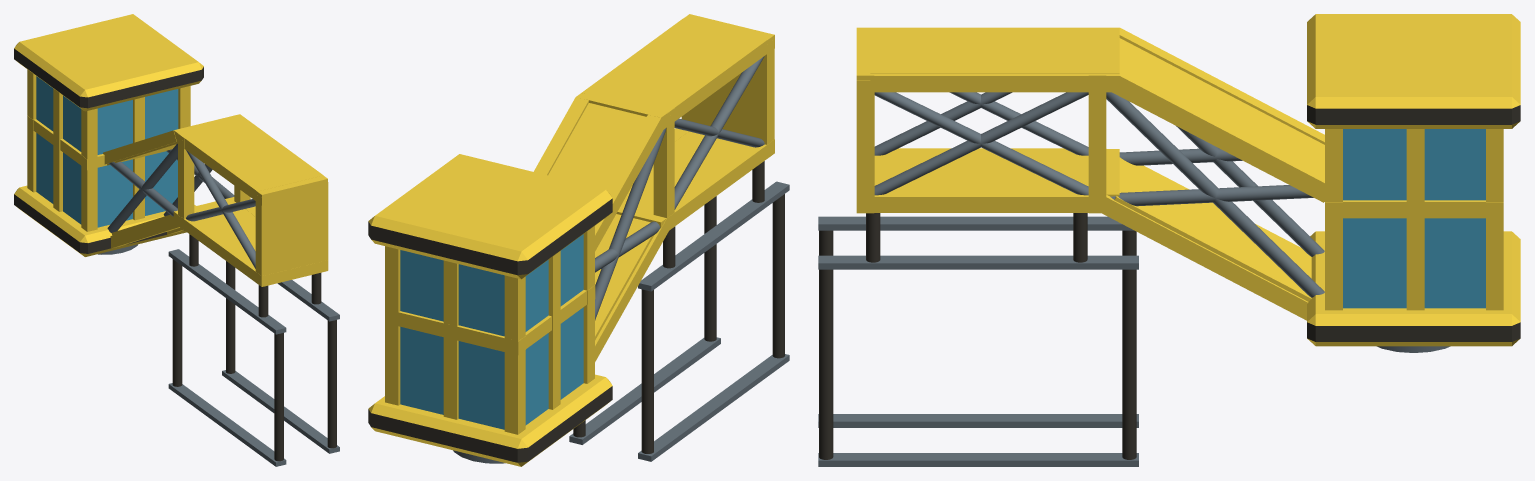
The model's file is Crain_Top.fbx.
3 views of the same model, side by side, from view 1: azimuth 30°, elevation 25°; view 2: azimuth 150°, elevation 25°; view 3: azimuth 270°, elevation 25° (orthographic). The views are drawn at different scales.
Visible parts, largest first — view 1: Crane_Top; view 2: Crane_Top; view 3: Crane_Top.
Part boxes in pixels (left/top/right/bottom): Crane_Top: left=14, top=14, right=339, bottom=466; Crane_Top: left=368, top=14, right=789, bottom=466; Crane_Top: left=818, top=14, right=1520, bottom=466.
Size of the model in its own units: 6 by 12.14 by 19.71.
